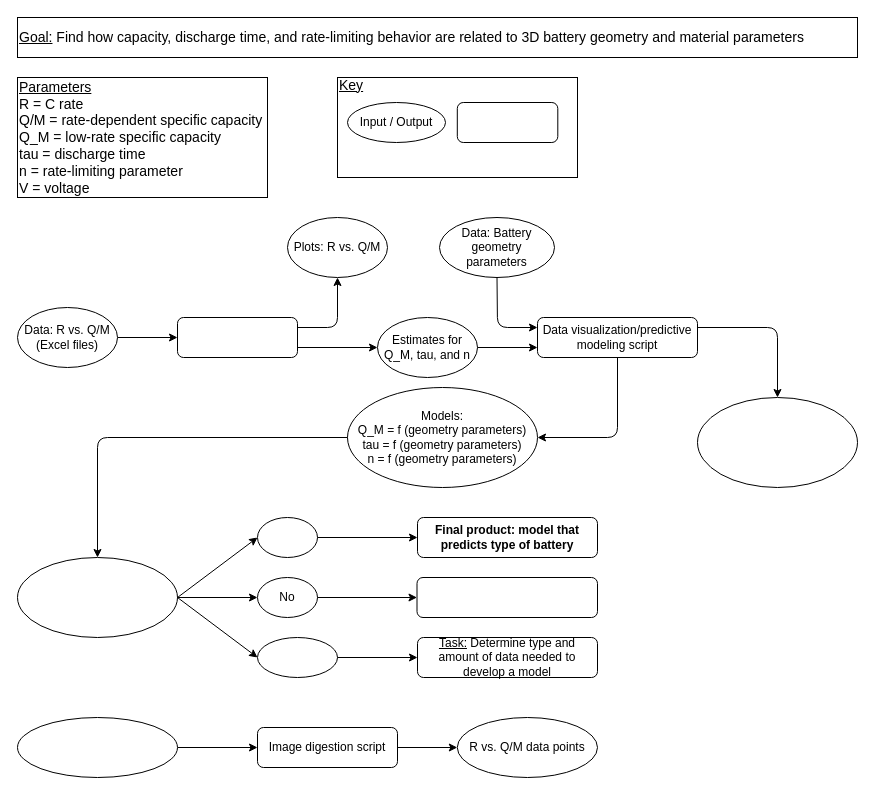
Image size: 875x795. Some labels were removed from this diagram. The shapes that lost their labels are listed below. From the top down, each one's centre as x and y in pixels, then its label:
pixel 507 122: Component
pixel 237 337: Curve-fitting script (Eq. 2)
pixel 777 442: Plots: Q_M, tau, and n vs. geometry parameters
pixel 287 537: Yes
pixel 97 597: Do the predictive models match the empirical models (Eq. 6)?
pixel 507 597: Task: Modify empirical model to match predictive model
pixel 297 657: No model found
pixel 97 747: Images of R vs. Q/M plots
